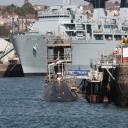submarine: (42, 79, 79, 104)
